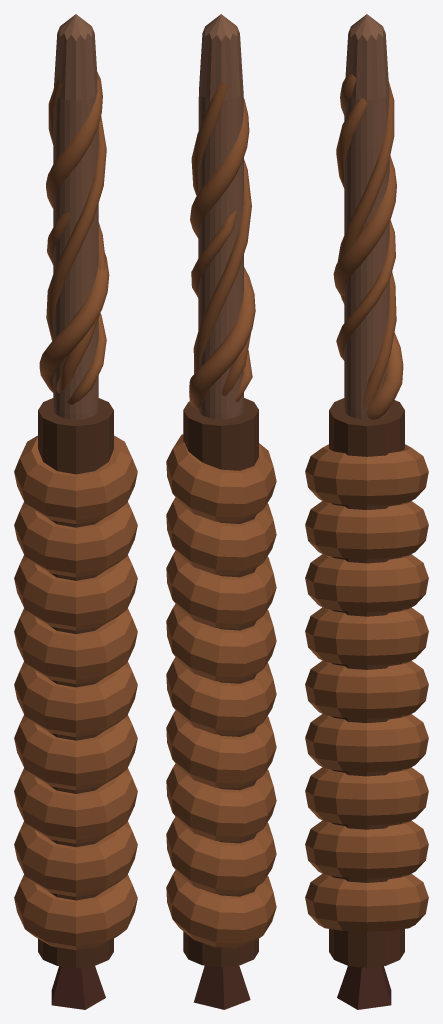
The model's file is Wand 478.glb.
3 views of the same model, side by side, from view 1: azimuth 90°, elevation 25°; view 2: azimuth 150°, elevation 25°; view 3: azimuth 270°, elevation 25° (orthographic).
Visible parts, largest first — view 1: GeneratedWand; view 2: GeneratedWand; view 3: GeneratedWand.
Part boxes in pixels (x1,y1,x2,y2): GeneratedWand: (14,14,137,1009); GeneratedWand: (166,14,276,1009); GeneratedWand: (305,14,428,1009).
Size of the model in its own units: 0.0497 by 0.5097 by 0.0581.
